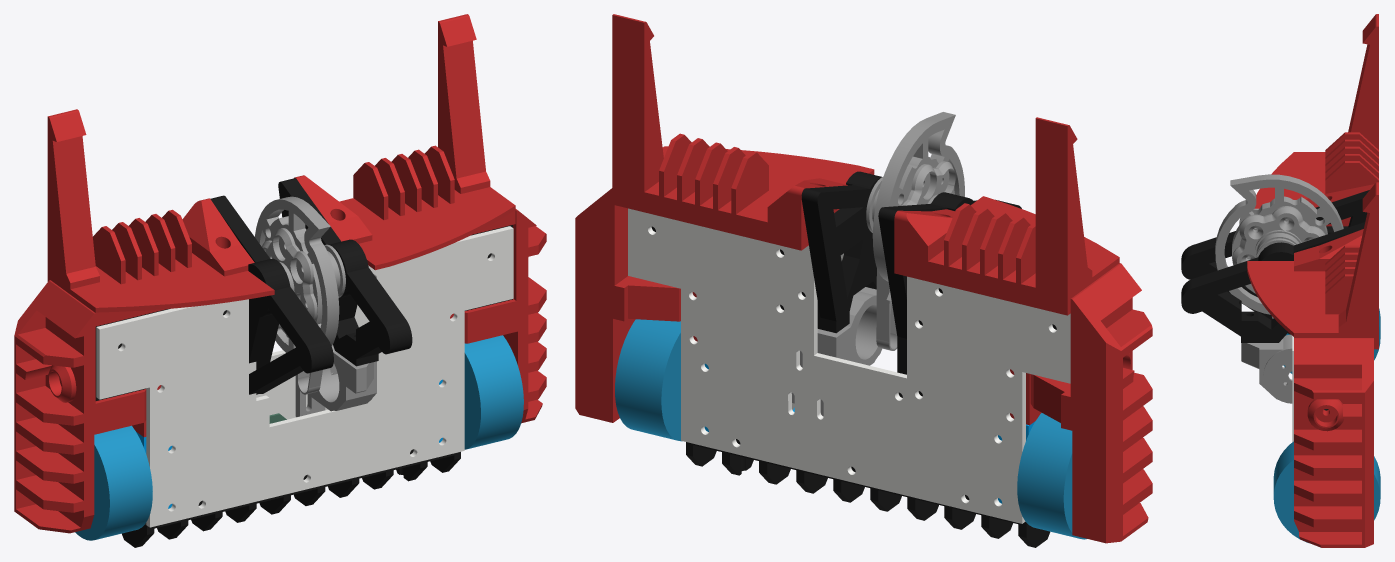
The model's file is Driler V3.obj.
The picture shows the model from 3 angles, left to right: view 1: azimuth 30°, elevation 25°; view 2: azimuth 150°, elevation 25°; view 3: azimuth 270°, elevation 25°; orthographic projection. The views are drawn at different scales.
Parts seen in each view (by area): view 1: topo:1, escudo_frente_esq, escudo_frente_dir, lateral_esq_v2, braco_disco (1), lateral_dir_v2, braco_disco (1) (1) (1) (4) (2), Body138, Body174, Dsico_arma_1 (1), protecao_traseira, Suporte_motor (+2 smaller); view 2: topo, escudo_frente_dir, lateral_esq_v2, escudo_frente_esq, lateral_dir_v2, braco_disco (1) (1) (1) (4) (2), Body174, Body138, protecao_traseira, Dsico_arma_1 (1), braco_disco (1), Suporte_motor (+2 smaller); view 3: lateral_dir_v2, escudo_frente_dir, escudo_frente_esq, braco_disco (1) (1) (1) (4) (2), Dsico_arma_1 (1), suporte_disco_rolamento, braco_disco (1), Suporte_motor, Body174, Correia.
Boxes of the visible parts, bbox=[...] form: topo:1: bbox=[96, 226, 513, 527]; escudo_frente_esq: bbox=[47, 109, 274, 326]; escudo_frente_dir: bbox=[294, 14, 515, 270]; lateral_esq_v2: bbox=[14, 280, 161, 533]; braco_disco (1): bbox=[210, 195, 333, 394]; lateral_dir_v2: bbox=[450, 209, 546, 423]; braco_disco (1) (1) (1) (4) (2): bbox=[278, 178, 412, 366]; Body138: bbox=[75, 425, 152, 540]; Body174: bbox=[464, 335, 523, 449]; Dsico_arma_1 (1): bbox=[254, 196, 339, 352]; protecao_traseira: bbox=[122, 452, 460, 547]; Suporte_motor: bbox=[295, 344, 376, 417]; topo: bbox=[628, 208, 1070, 523]; escudo_frente_dir: bbox=[612, 14, 874, 250]; lateral_esq_v2: bbox=[1010, 263, 1152, 543]; escudo_frente_esq: bbox=[894, 117, 1119, 315]; lateral_dir_v2: bbox=[575, 188, 697, 422]; braco_disco (1) (1) (1) (4) (2): bbox=[780, 171, 881, 333]; Body174: bbox=[615, 319, 682, 441]; Body138: bbox=[1017, 413, 1086, 539]; protecao_traseira: bbox=[686, 442, 1050, 547]; Dsico_arma_1 (1): bbox=[872, 112, 964, 301]; braco_disco (1): bbox=[878, 192, 1021, 397]; Suporte_motor: bbox=[791, 287, 891, 416]; lateral_dir_v2: bbox=[1294, 338, 1373, 547]; escudo_frente_dir: bbox=[1247, 182, 1378, 349]; escudo_frente_esq: bbox=[1254, 14, 1378, 226]; braco_disco (1) (1) (1) (4) (2): bbox=[1181, 222, 1365, 342]; Dsico_arma_1 (1): bbox=[1215, 174, 1343, 314]; suporte_disco_rolamento: bbox=[1232, 206, 1325, 264]; braco_disco (1): bbox=[1181, 190, 1369, 334]; Suporte_motor: bbox=[1241, 334, 1292, 403]; Body174: bbox=[1273, 441, 1380, 542]; Correia: bbox=[1256, 233, 1299, 318].
Bounding box in the file's own units: 34.05 × 27.1 × 13.22.
